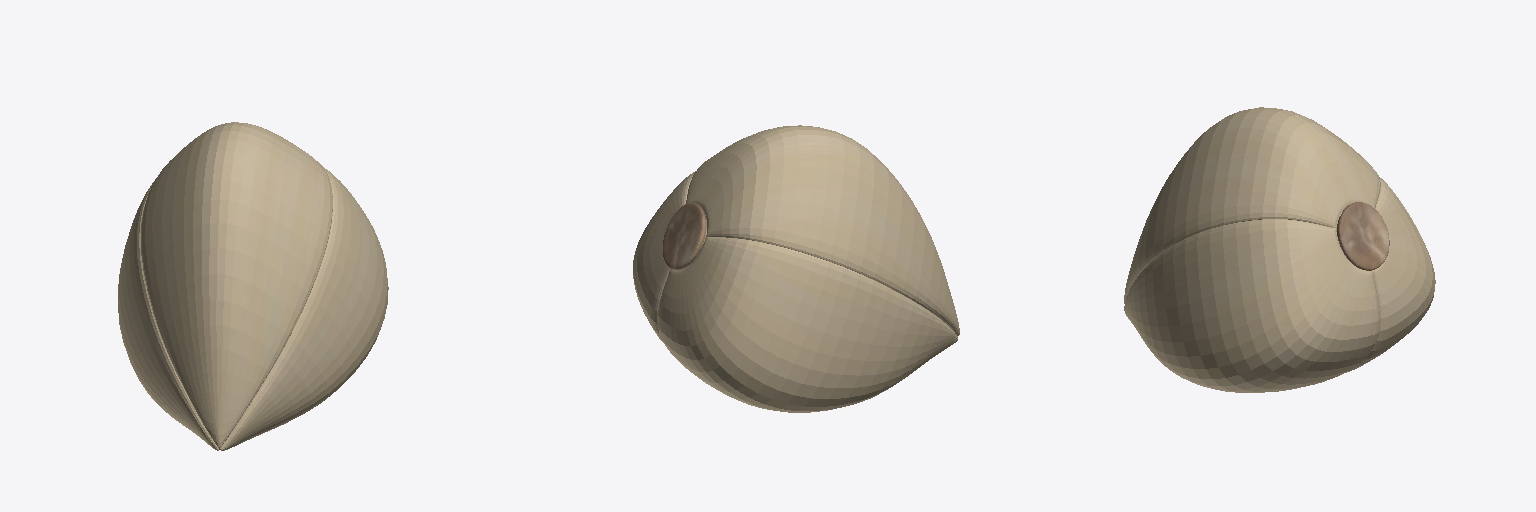
3 views of the same model, side by side, from view 1: azimuth 30°, elevation 25°; view 2: azimuth 150°, elevation 25°; view 3: azimuth 270°, elevation 25° (orthographic).
Visible parts, largest first — view 1: GrainBuckwheat048; view 2: GrainBuckwheat048; view 3: GrainBuckwheat048.
Part boxes in pixels (bbox=[...]): GrainBuckwheat048: bbox=[118, 122, 388, 450]; GrainBuckwheat048: bbox=[633, 125, 959, 412]; GrainBuckwheat048: bbox=[1124, 107, 1435, 392].
Size of the model in its own units: 0.0267 by 0.0269 by 0.0289.
Materials: 1 (1 with a texture image).